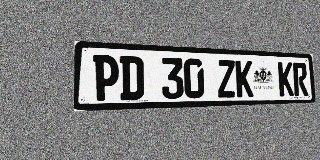0: (183, 58, 204, 99)
3: (162, 57, 184, 99)
D: (120, 56, 144, 100)
K: (235, 60, 254, 97), (278, 62, 294, 96)
P: (93, 55, 119, 101)
R: (293, 62, 308, 96)
Z: (217, 59, 236, 98)
